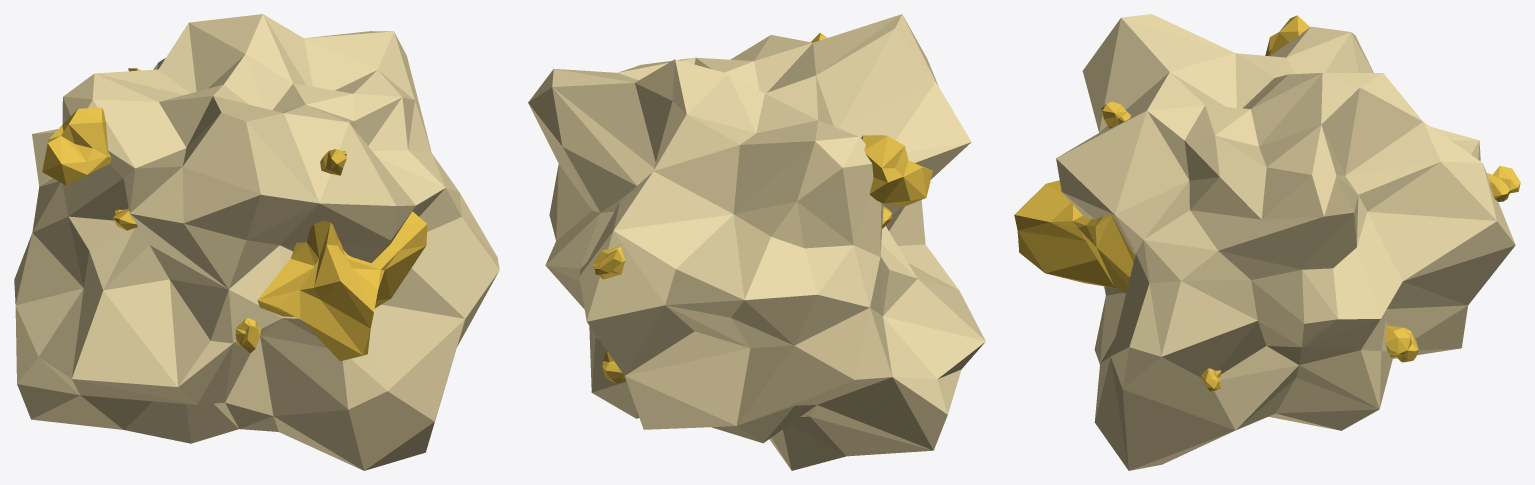
File: MetalOre (14).fbx
3 renders of one model, left to right at view 1: azimuth 30°, elevation 25°; view 2: azimuth 150°, elevation 25°; view 3: azimuth 270°, elevation 25°, orthographic. The views are drawn at different scales.
Parts seen in each view (by area): view 1: Asteroid369; view 2: Asteroid369; view 3: Asteroid369.
Part boxes in pixels (bbox=[...]): Asteroid369: bbox=[14, 14, 499, 470]; Asteroid369: bbox=[528, 14, 985, 470]; Asteroid369: bbox=[1014, 14, 1520, 470].
Bounding box in the file's own units: 357 × 329 × 395.
